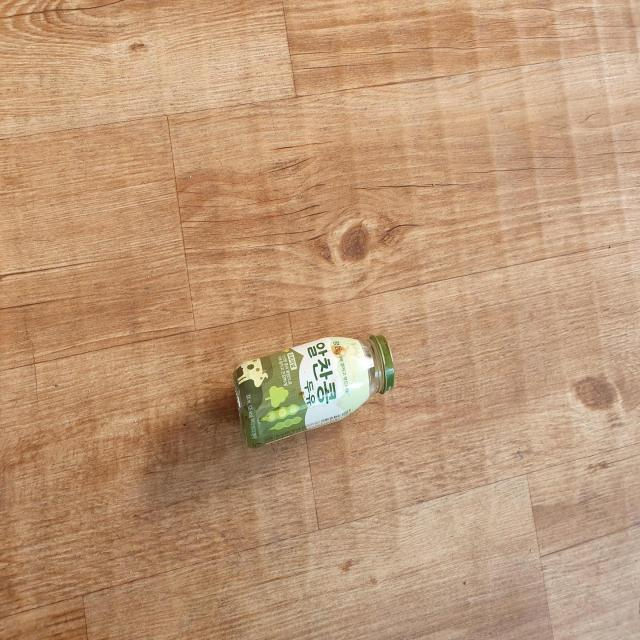glass: (233, 336, 395, 447)
